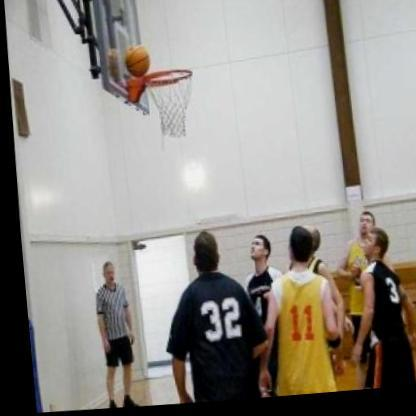basketball: (117, 41, 153, 83)
